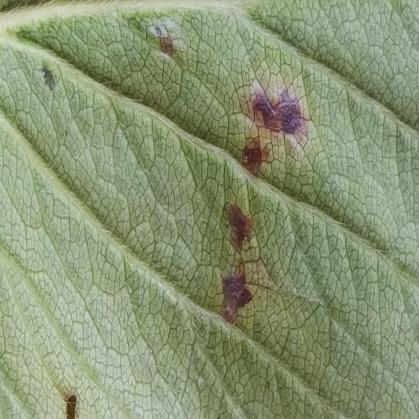Angular Leafspot: (28, 15, 319, 328)
